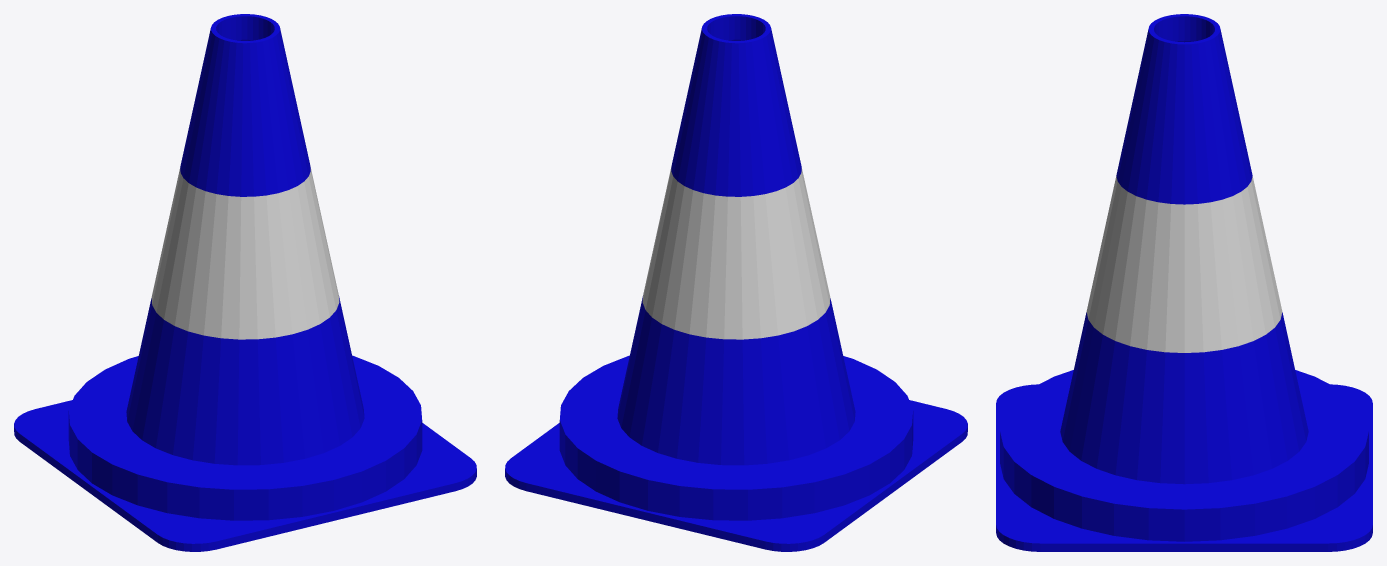
Rendered from blue.fbx.
3 views of the same model, side by side, from view 1: azimuth 30°, elevation 25°; view 2: azimuth 150°, elevation 25°; view 3: azimuth 270°, elevation 25° (orthographic). The views are drawn at different scales.
Visible parts, largest first — view 1: BlueConeExport; view 2: BlueConeExport; view 3: BlueConeExport.
Boxes of the visible parts, <box> form: BlueConeExport: <box>14,14,476,551</box>; BlueConeExport: <box>505,14,967,551</box>; BlueConeExport: <box>996,14,1372,551</box>.
Size of the model in its own units: 23.5 by 30.5 by 23.5.
